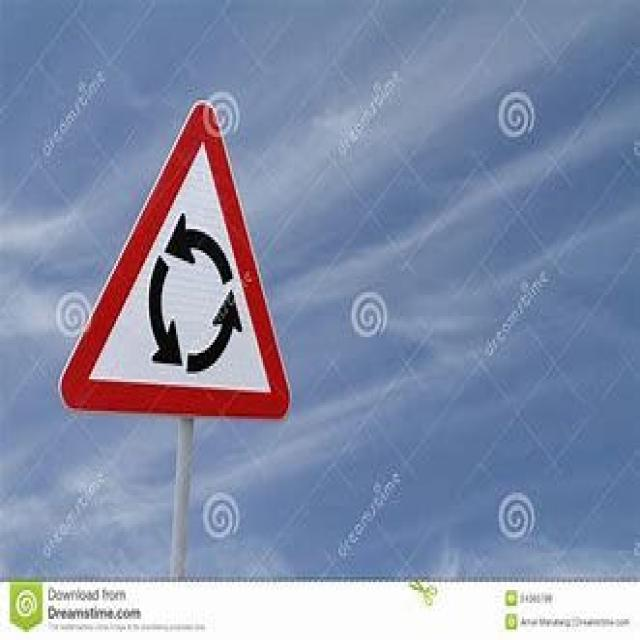ROUNDABOUT: (56, 95, 292, 425)
